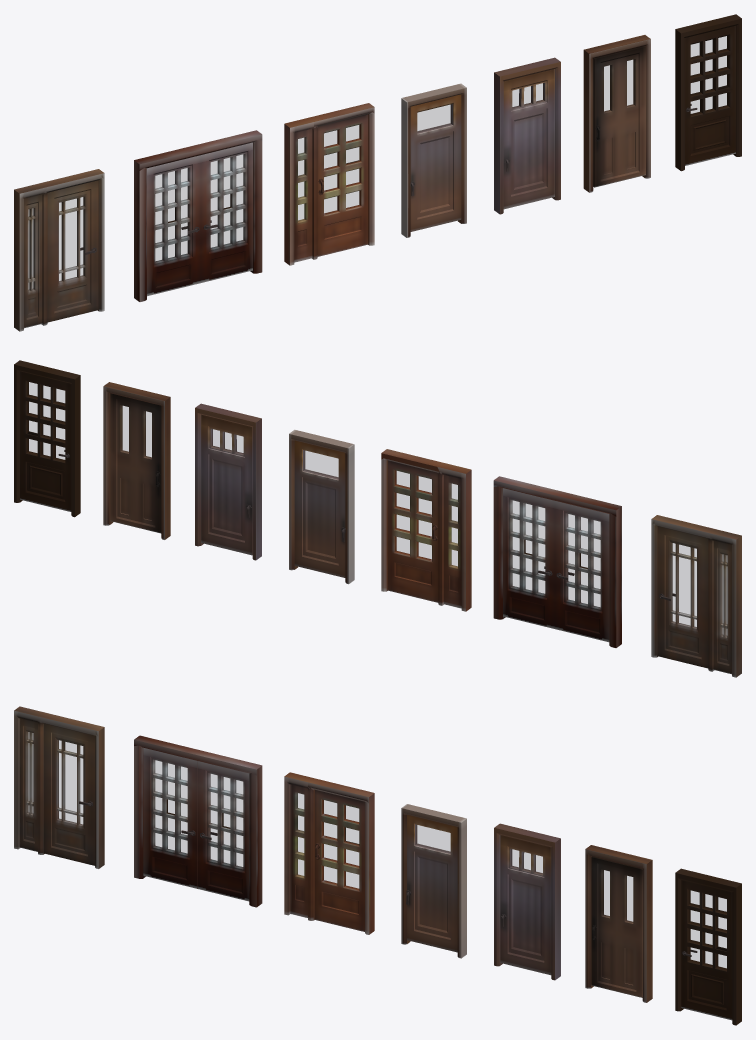
The model's file is doors_front.glb.
3 views of the same model, one above another, from view 1: azimuth 30°, elevation 25°; view 2: azimuth 150°, elevation 25°; view 3: azimuth 330°, elevation 25° (orthographic).
Visible parts, largest first — view 1: Front Door_003.001, Front Door_002, Front Door_001, Front Door_005, Front Door_006, Front Door_003, Front Door_008, Front Door_007, Front Doorframe_005, Front Doorframe_006, Front Doorframe_002, Wooden Doorframe_001.001 (+3 smaller); view 2: Front Door_003.001, Front Door_001, Front Door_005, Front Door_008, Front Door_002, Front Door_006, Front Door_003, Front Door_007, Front Doorframe_005, Front Doorframe_006, Front Doorframe_002, Wooden Doorframe_001.001 (+3 smaller); view 3: Front Door_003.001, Front Door_003, Front Door_005, Front Door_002, Front Door_008, Front Door_001, Front Door_006, Front Doorframe_005, Front Door_007, Front Doorframe_006, Front Doorframe_002, Wooden Doorframe_001.001 (+3 smaller).
Boxes of the visible parts, x1,y1,x2,y2 form: Front Door_003.001: (147, 155, 200, 296); Front Door_002: (593, 46, 645, 187); Front Door_001: (317, 114, 368, 256); Front Door_005: (47, 180, 98, 322); Front Door_006: (503, 69, 554, 209); Front Door_003: (201, 142, 252, 282); Front Door_008: (685, 25, 735, 165); Front Door_007: (410, 94, 461, 231); Front Doorframe_005: (284, 103, 374, 265); Front Doorframe_006: (14, 169, 104, 331); Front Doorframe_002: (134, 130, 262, 301); Wooden Doorframe_001.001: (583, 35, 650, 192); Front Door_003.001: (555, 501, 609, 642); Front Door_001: (387, 460, 438, 602); Front Door_005: (657, 526, 708, 668); Front Door_008: (20, 371, 71, 511); Front Door_002: (110, 393, 161, 533); Front Door_006: (201, 414, 252, 555); Front Door_003: (503, 488, 554, 628); Front Door_007: (294, 440, 345, 577); Front Doorframe_005: (381, 449, 471, 611); Front Doorframe_006: (651, 515, 741, 677); Front Doorframe_002: (493, 476, 621, 647); Wooden Doorframe_001.001: (103, 382, 170, 539); Front Door_003.001: (143, 747, 197, 888); Front Door_003: (197, 761, 249, 901); Front Door_005: (43, 723, 94, 865); Front Door_002: (591, 856, 642, 997); Front Door_008: (681, 880, 732, 1020); Front Door_001: (314, 790, 364, 931); Front Door_006: (500, 835, 551, 975); Front Doorframe_005: (284, 772, 374, 934); Front Door_007: (407, 815, 457, 952); Front Doorframe_006: (14, 706, 104, 868); Front Doorframe_002: (134, 735, 262, 907); Wooden Doorframe_001.001: (585, 845, 652, 1002).
Size of the model in its own units: 11.61 by 2.14 by 0.2002.
Materials: 2 (1 with a texture image).
